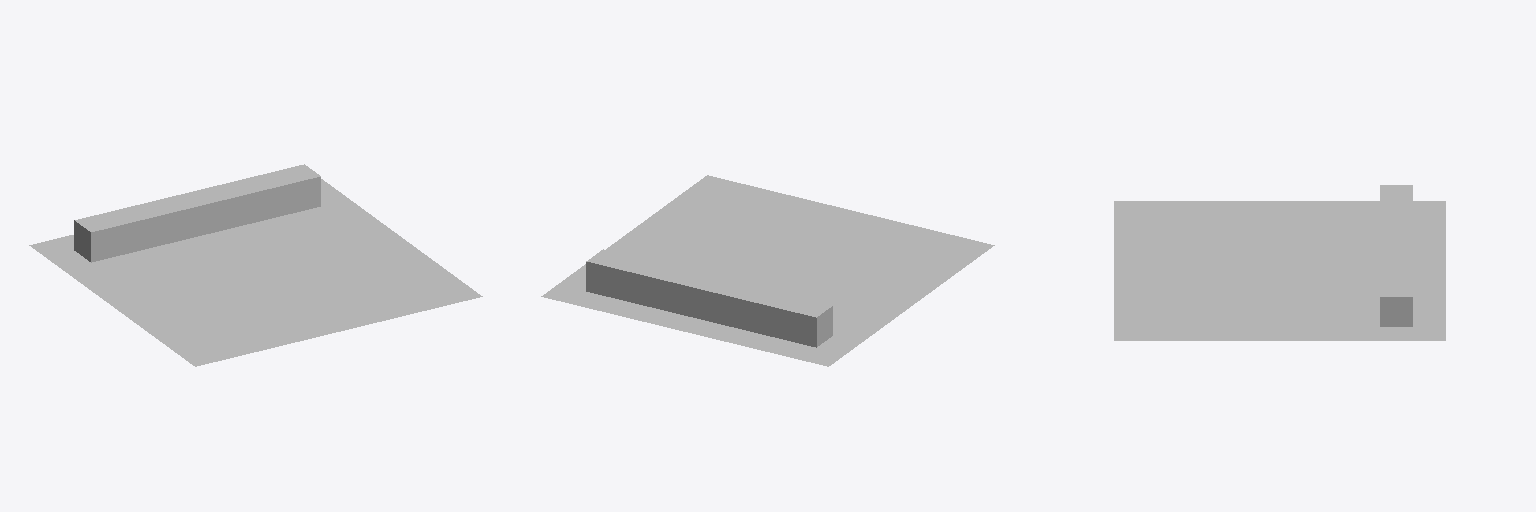
File: terrain_wall.obj
3 views of the same model, side by side, from view 1: azimuth 30°, elevation 25°; view 2: azimuth 150°, elevation 25°; view 3: azimuth 270°, elevation 25° (orthographic).
Parts seen in each view (by area): view 1: Plane; view 2: Plane; view 3: Plane.
Part boxes in pixels (x1,y1,x2,y2): Plane: (29,164,482,366); Plane: (541,175,994,366); Plane: (1114,185,1445,340).
Bounding box in the file's own units: 10 × 1 × 10.